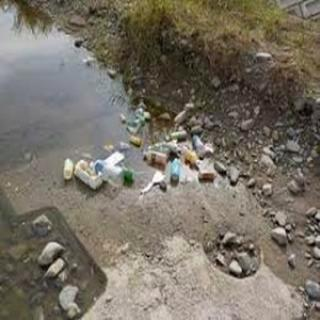Metal: (128, 132, 141, 151), (169, 129, 188, 142)
Plastic: (74, 157, 103, 190), (100, 160, 123, 186), (181, 143, 200, 168), (144, 151, 168, 168), (168, 139, 183, 159), (171, 156, 181, 183), (63, 158, 74, 180)
Trash: (129, 108, 148, 133)
